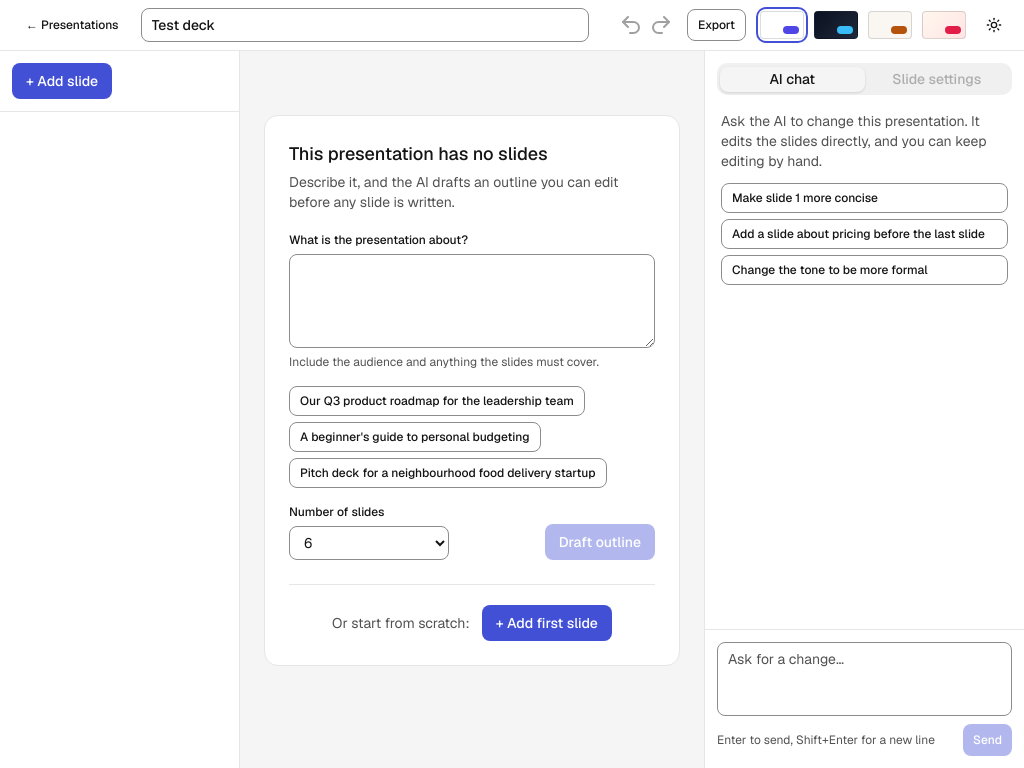
Test: generating a deck from a prompt › explains why an outline couldn't be drafted and keeps the prompt
The width and height of the screenshot is (1024, 768).
Type "Team offsite agenda" into the text box labelled "What is the presentation about?" at [472, 301], box [289,254,655,348]
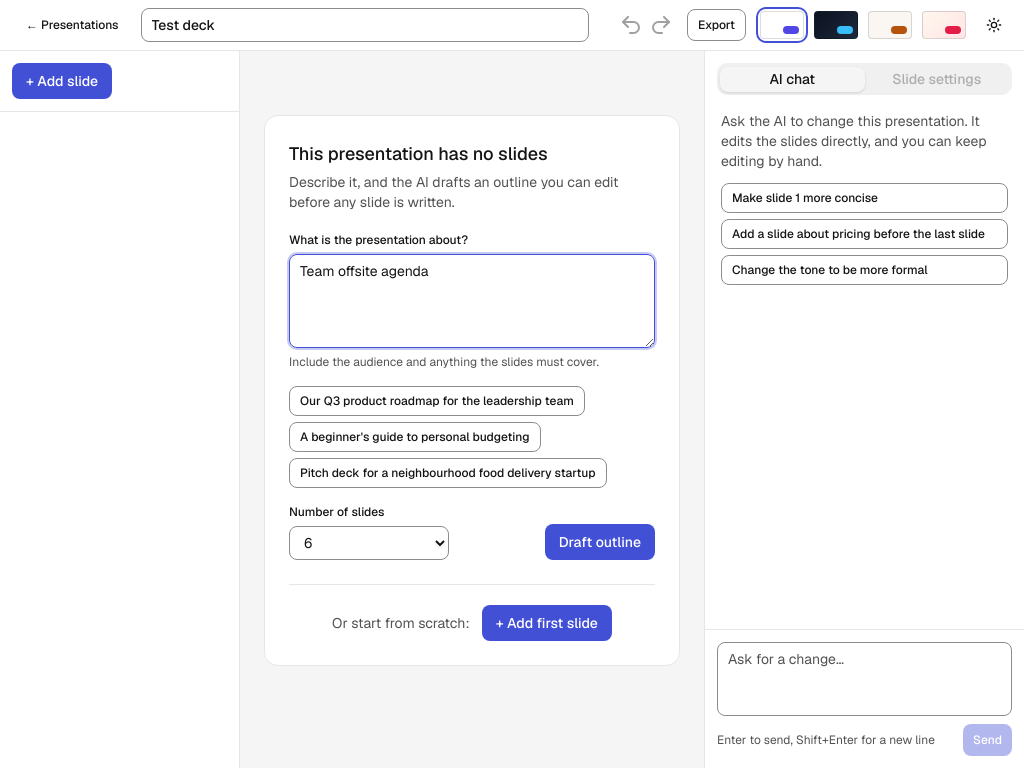
Select "3" in the dropdown labelled "Number of slides" at [369, 543], box [289,526,449,560]
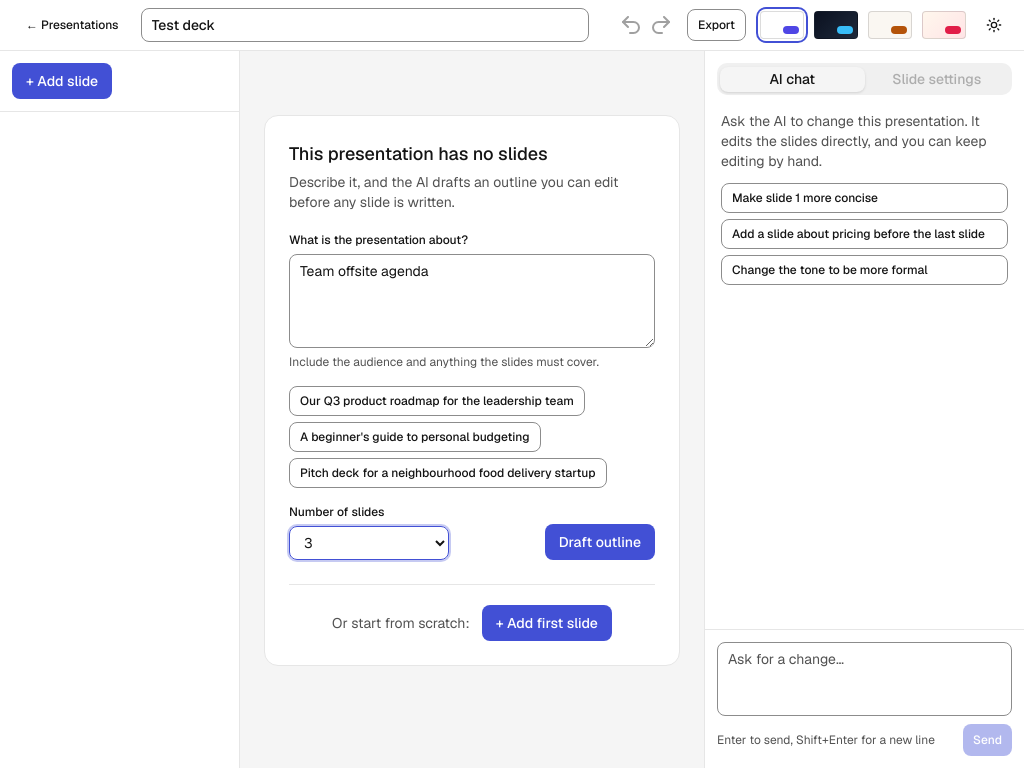
Click the button "Draft outline" at [600, 542], box [545,524,655,560]
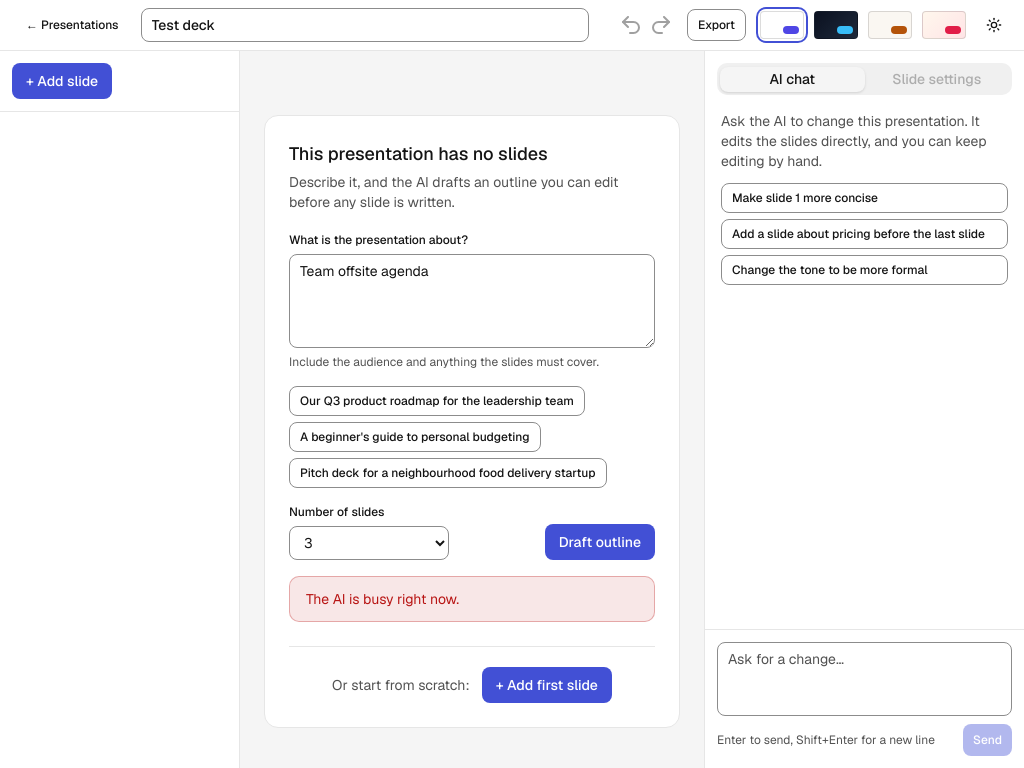
Check: the message reads "The AI is busy right now.", box [306,590,459,608]
